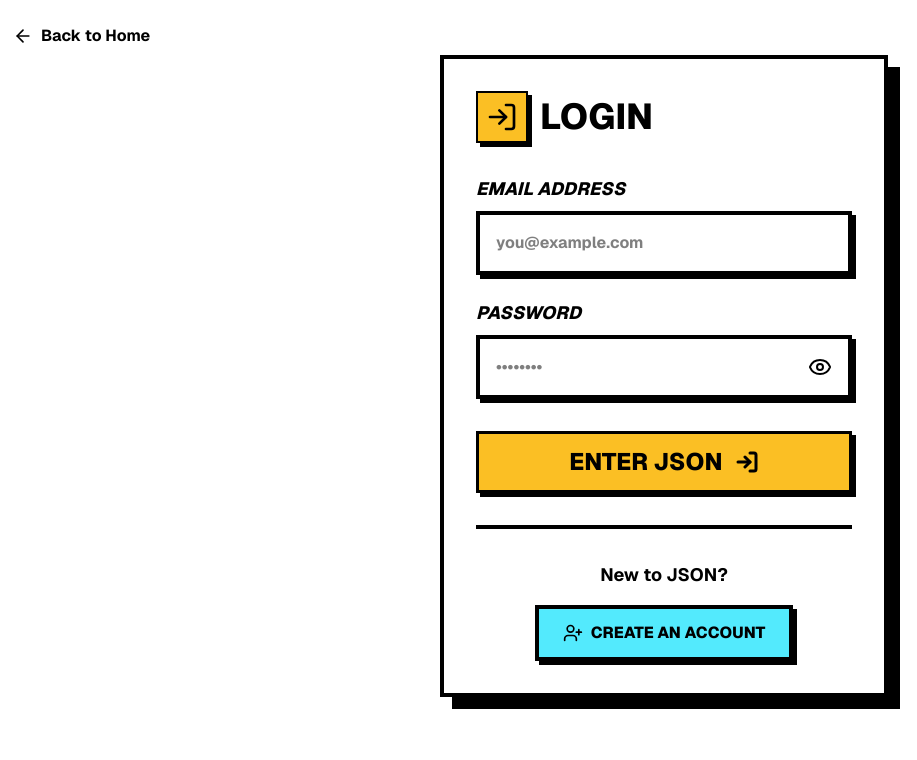
Authentication Pages › LoginPage › handles login failure with default message
The width and height of the screenshot is (917, 760).
Type "test@example.com" into the field with placeholder "you@example.com". click: (664, 243)
box: [476,211,852,275]
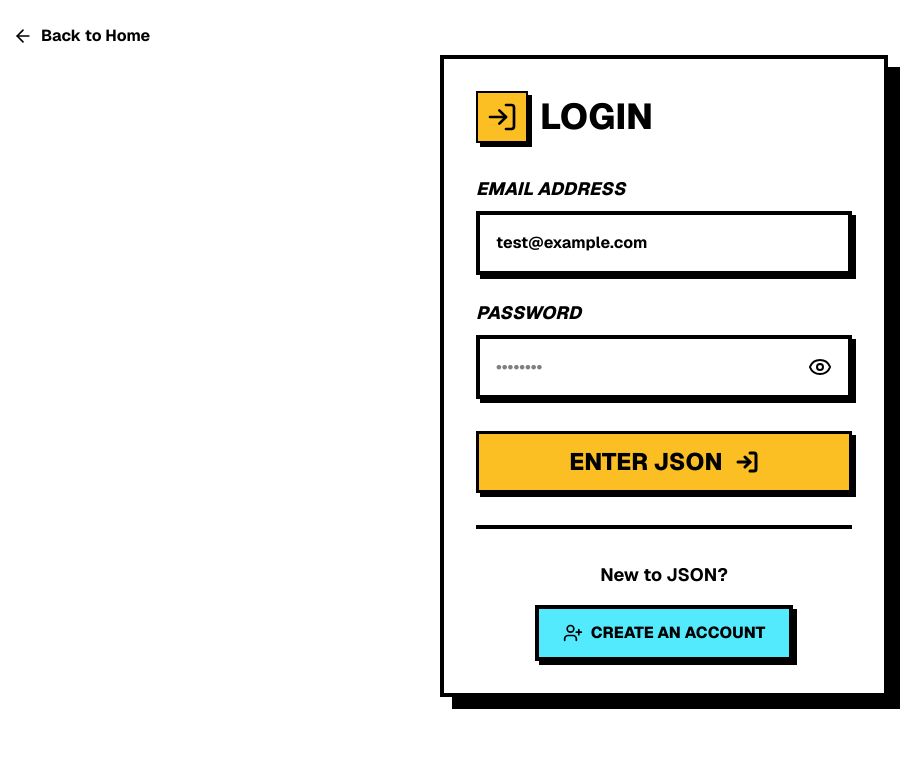
Type "wrongpassword" into the password field with placeholder "••••••••". click: (664, 367)
box: [476,335,852,399]
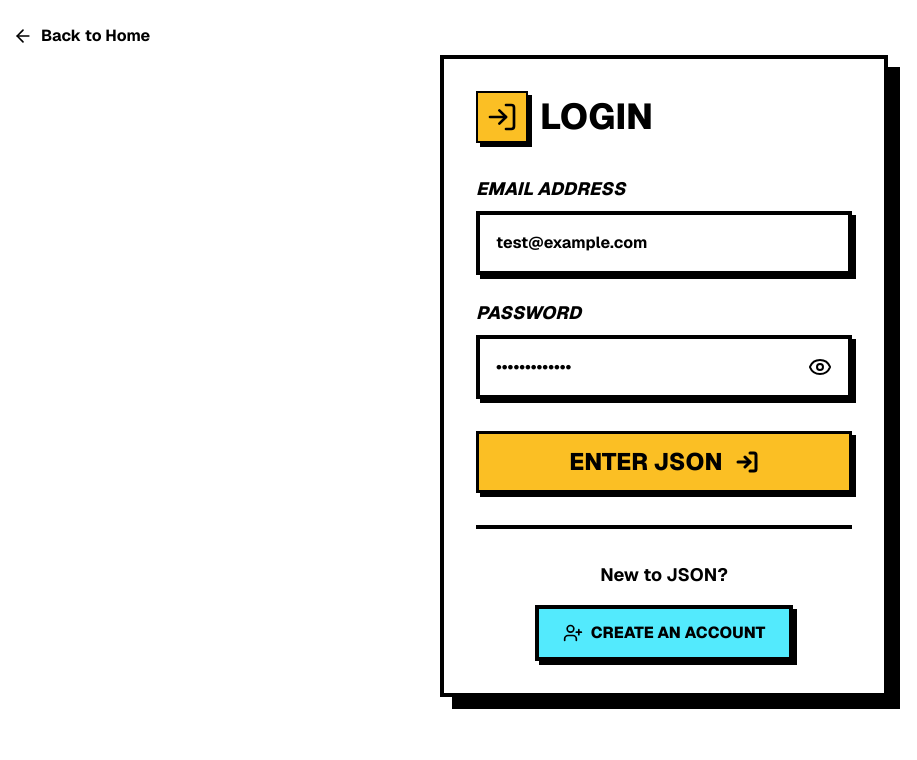
Click the button "Enter JSON". click: (664, 462)
box: [476,431,852,493]
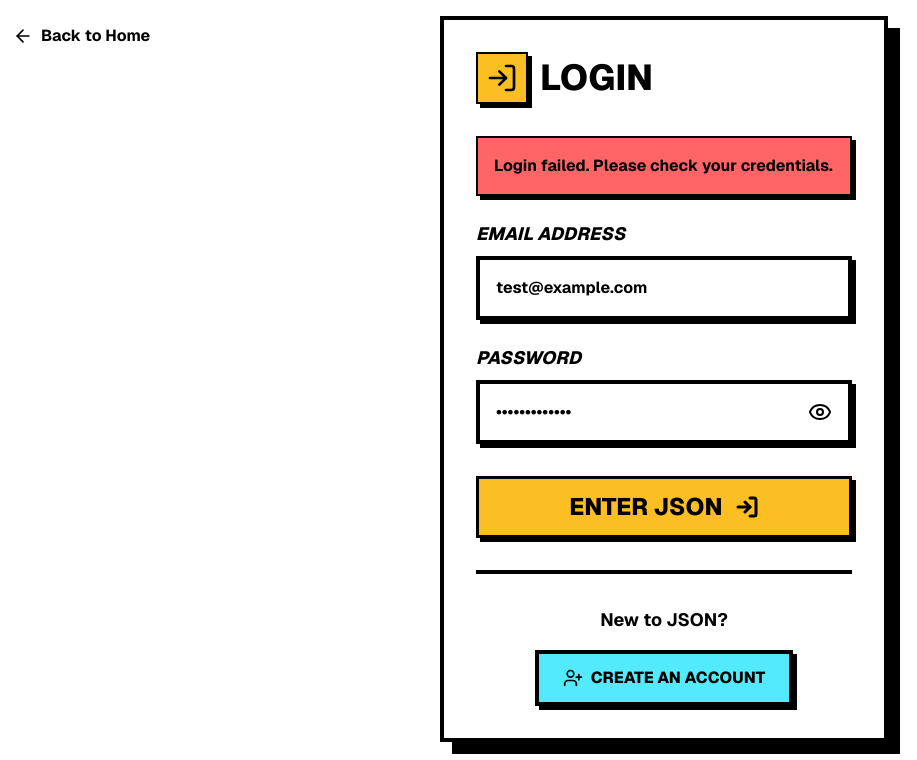
Now the text "Login failed. Please check your credentials." is shown, box [476,136,852,196]
